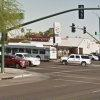Bus: (5, 39, 58, 61)
